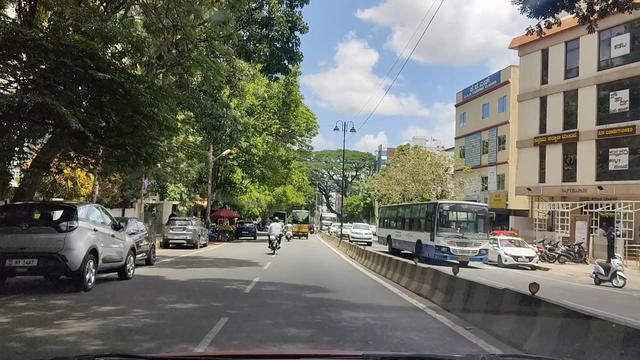LMV: (0, 199, 137, 290), (271, 213, 287, 270)
